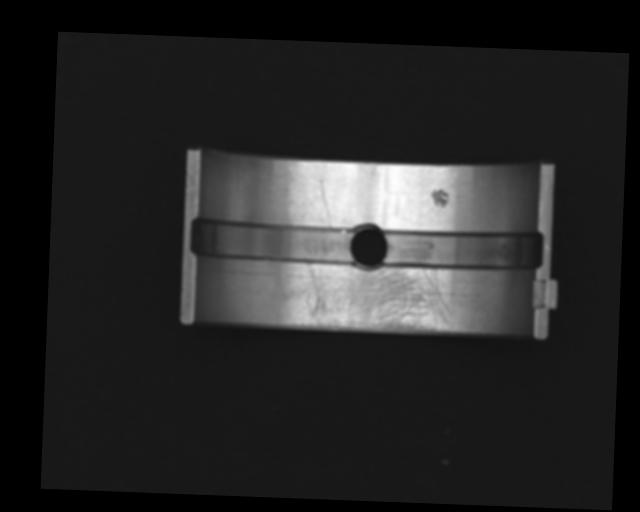bruise: (430, 187, 450, 209)
gap: (190, 219, 355, 264), (381, 228, 543, 271)
hole: (348, 224, 389, 270)
nick: (318, 178, 334, 228)
scratch: (287, 262, 452, 333)
